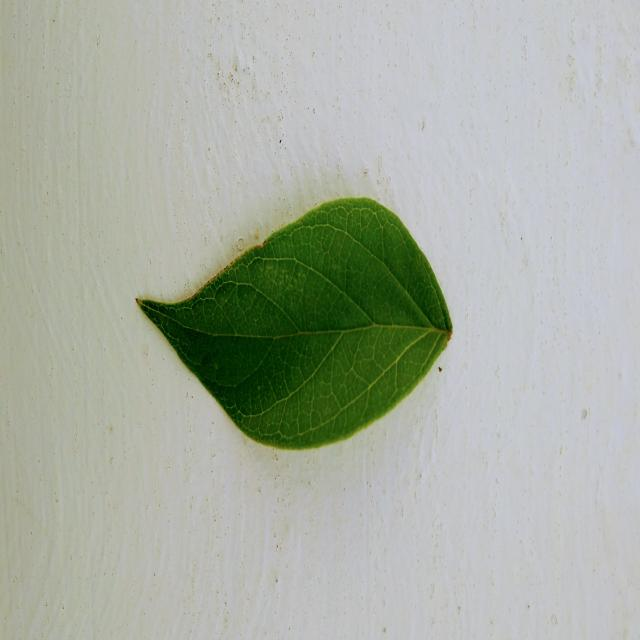Parijatha: (138, 198, 452, 449)
